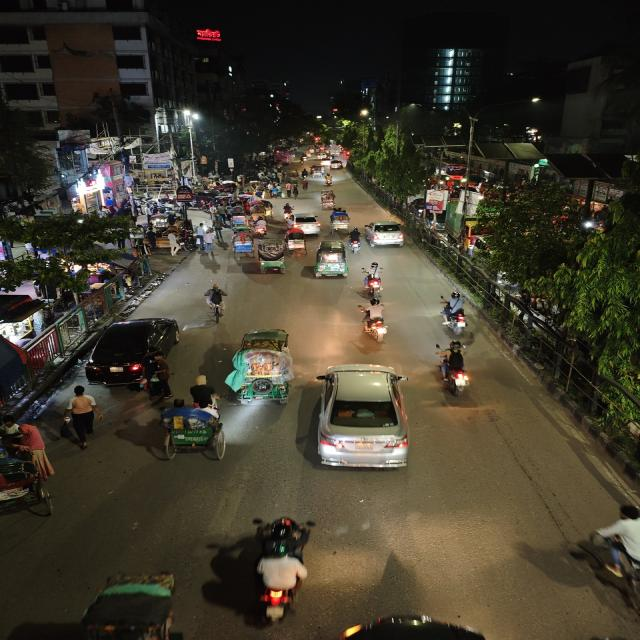bicycle: (200, 283, 231, 323)
car: (308, 361, 416, 477), (81, 314, 186, 388), (362, 219, 407, 249), (292, 212, 322, 234), (329, 160, 344, 172)
cng: (314, 240, 349, 280)
motorcycle: (244, 510, 320, 626), (434, 340, 474, 401), (436, 289, 473, 337), (358, 299, 392, 343), (360, 261, 387, 301), (347, 227, 363, 254), (250, 215, 269, 237), (280, 201, 294, 223), (323, 173, 334, 187), (300, 169, 309, 180)
pedestrian: (60, 384, 102, 448), (144, 361, 172, 403), (165, 228, 184, 256), (200, 232, 217, 259), (212, 224, 224, 243), (286, 180, 298, 198)
rickshaw: (230, 327, 298, 408), (153, 400, 231, 462), (0, 442, 48, 522), (252, 238, 288, 276), (226, 227, 256, 258), (328, 206, 351, 234), (284, 228, 307, 252), (316, 189, 338, 209), (228, 213, 250, 229), (258, 200, 274, 220)
